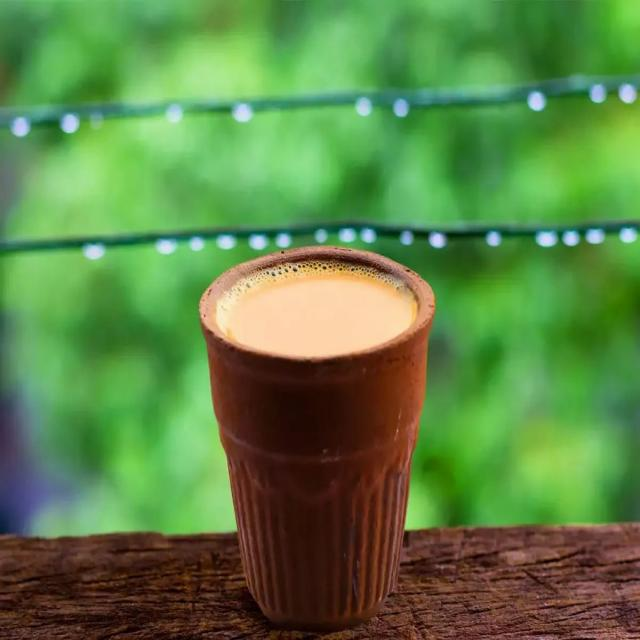Chai: (211, 261, 420, 357)
